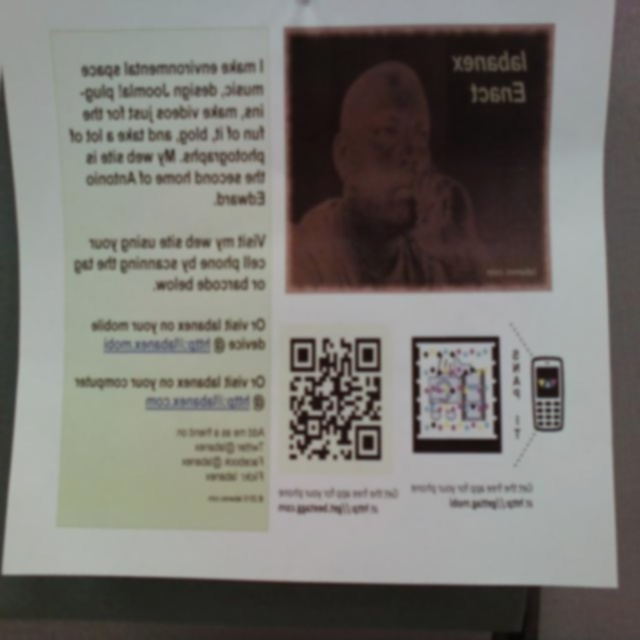qr-code: (290, 338, 381, 460)
